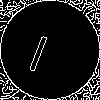I: (25, 25, 55, 73)
